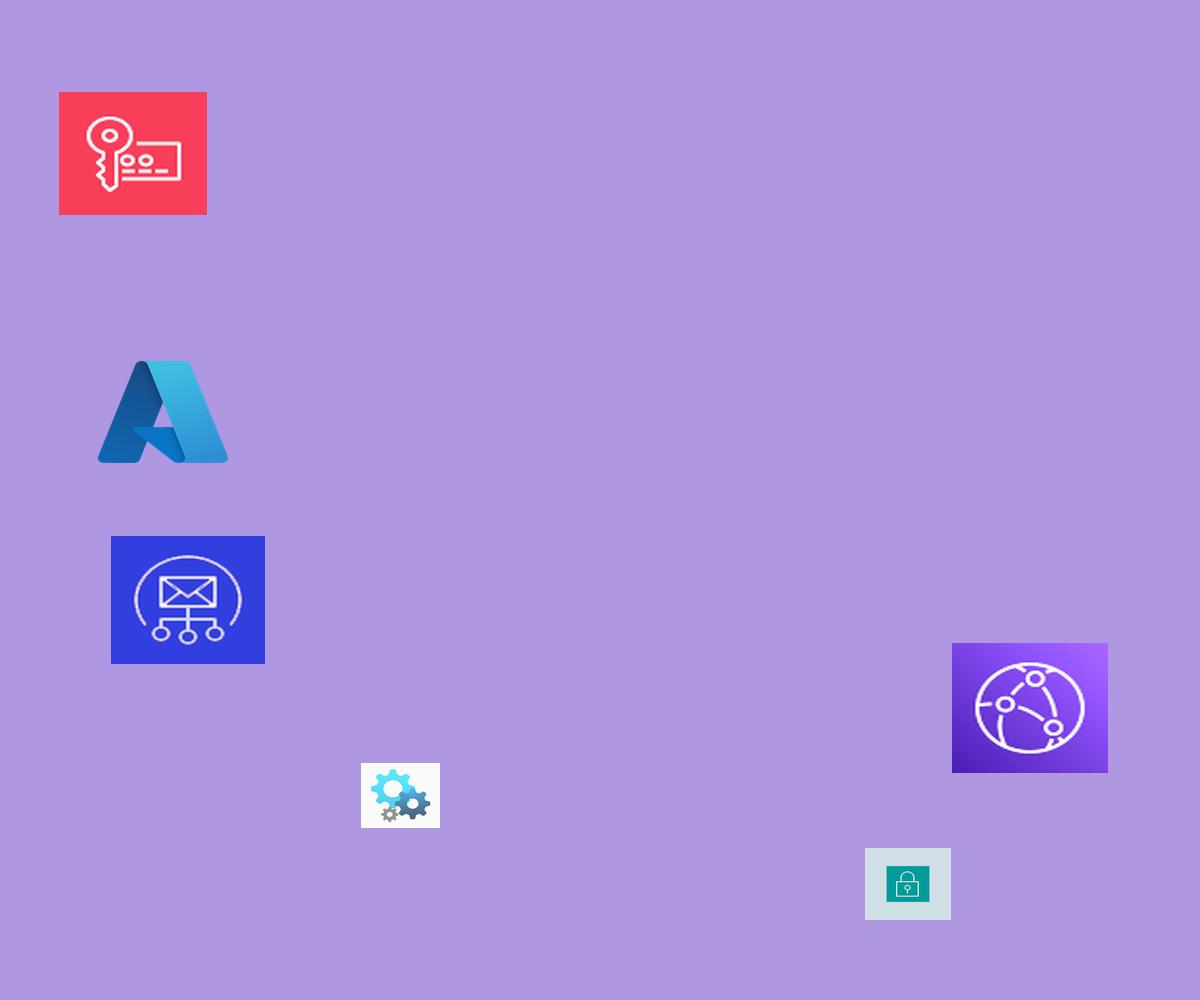AWS-CloudFront: (952, 643, 1108, 773)
AWS-Key-Management-Service: (59, 92, 207, 215)
AWS-Private-subnet: (865, 848, 951, 920)
AWS-Simple-Email-Service: (111, 536, 265, 664)
Azure_api: (361, 763, 440, 828)
Azure_services: (92, 353, 234, 471)
